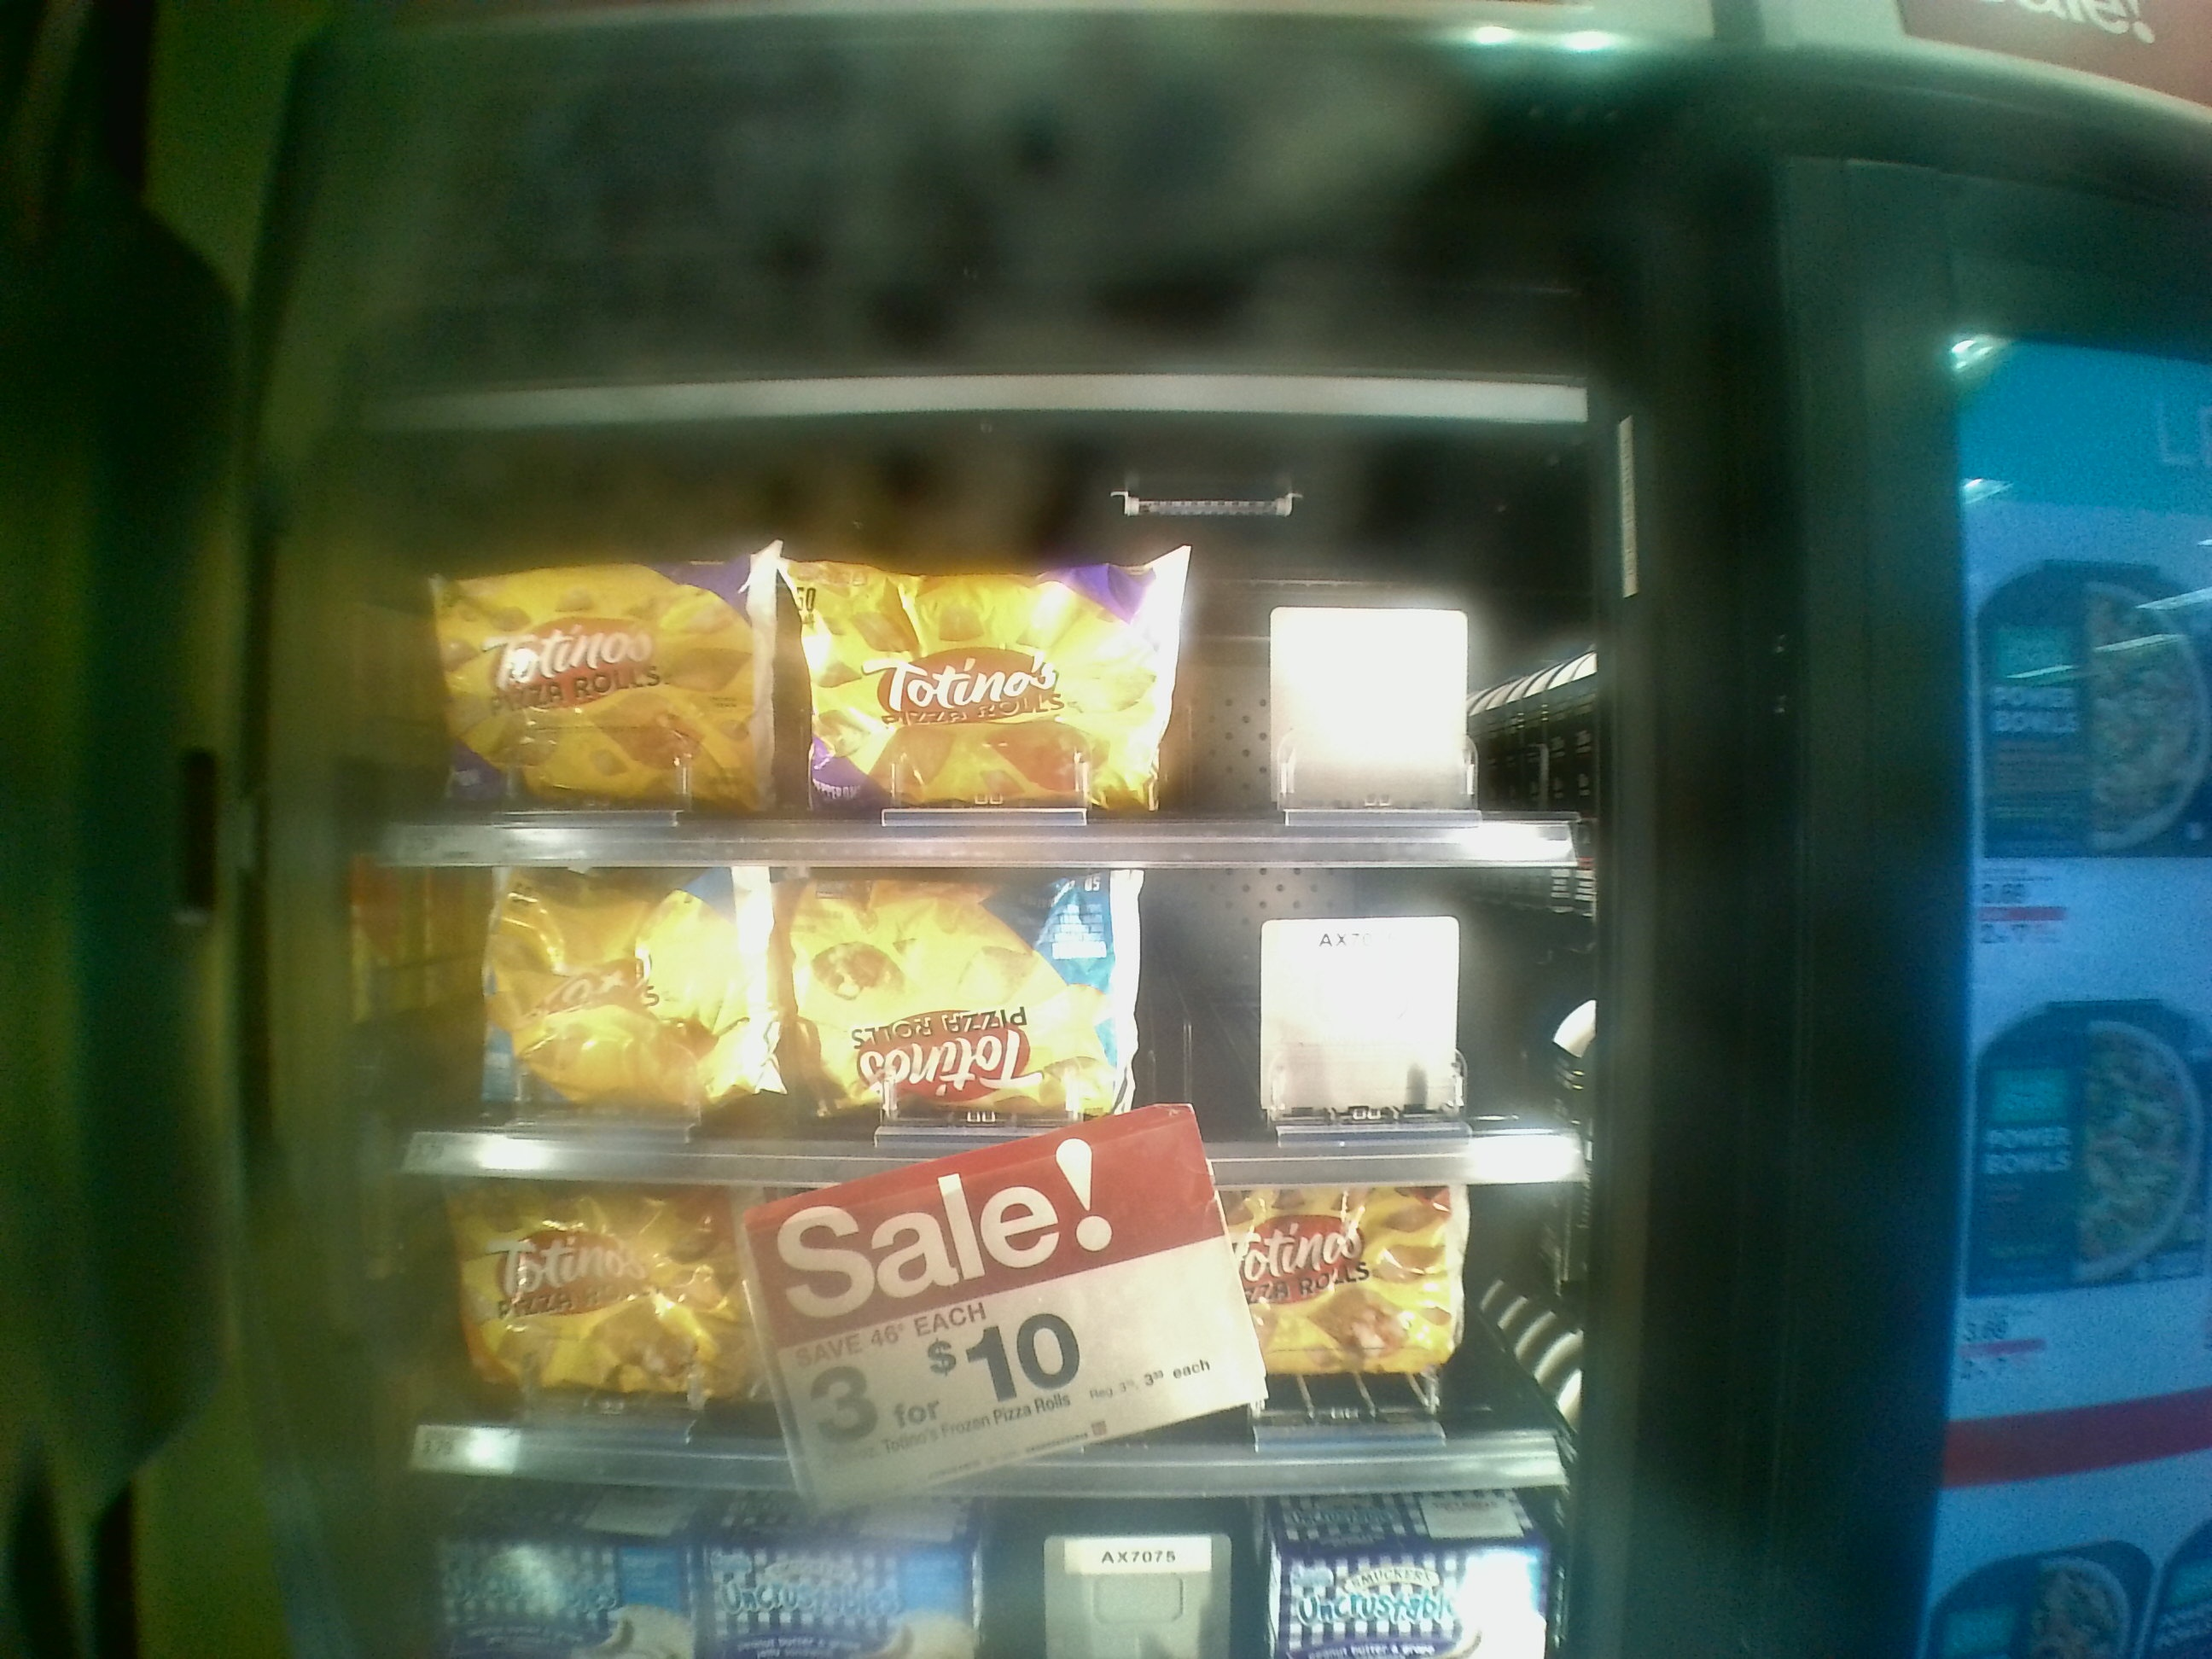shelf: (355, 437, 1592, 877), (354, 859, 1583, 1182), (347, 1171, 1561, 1497)
